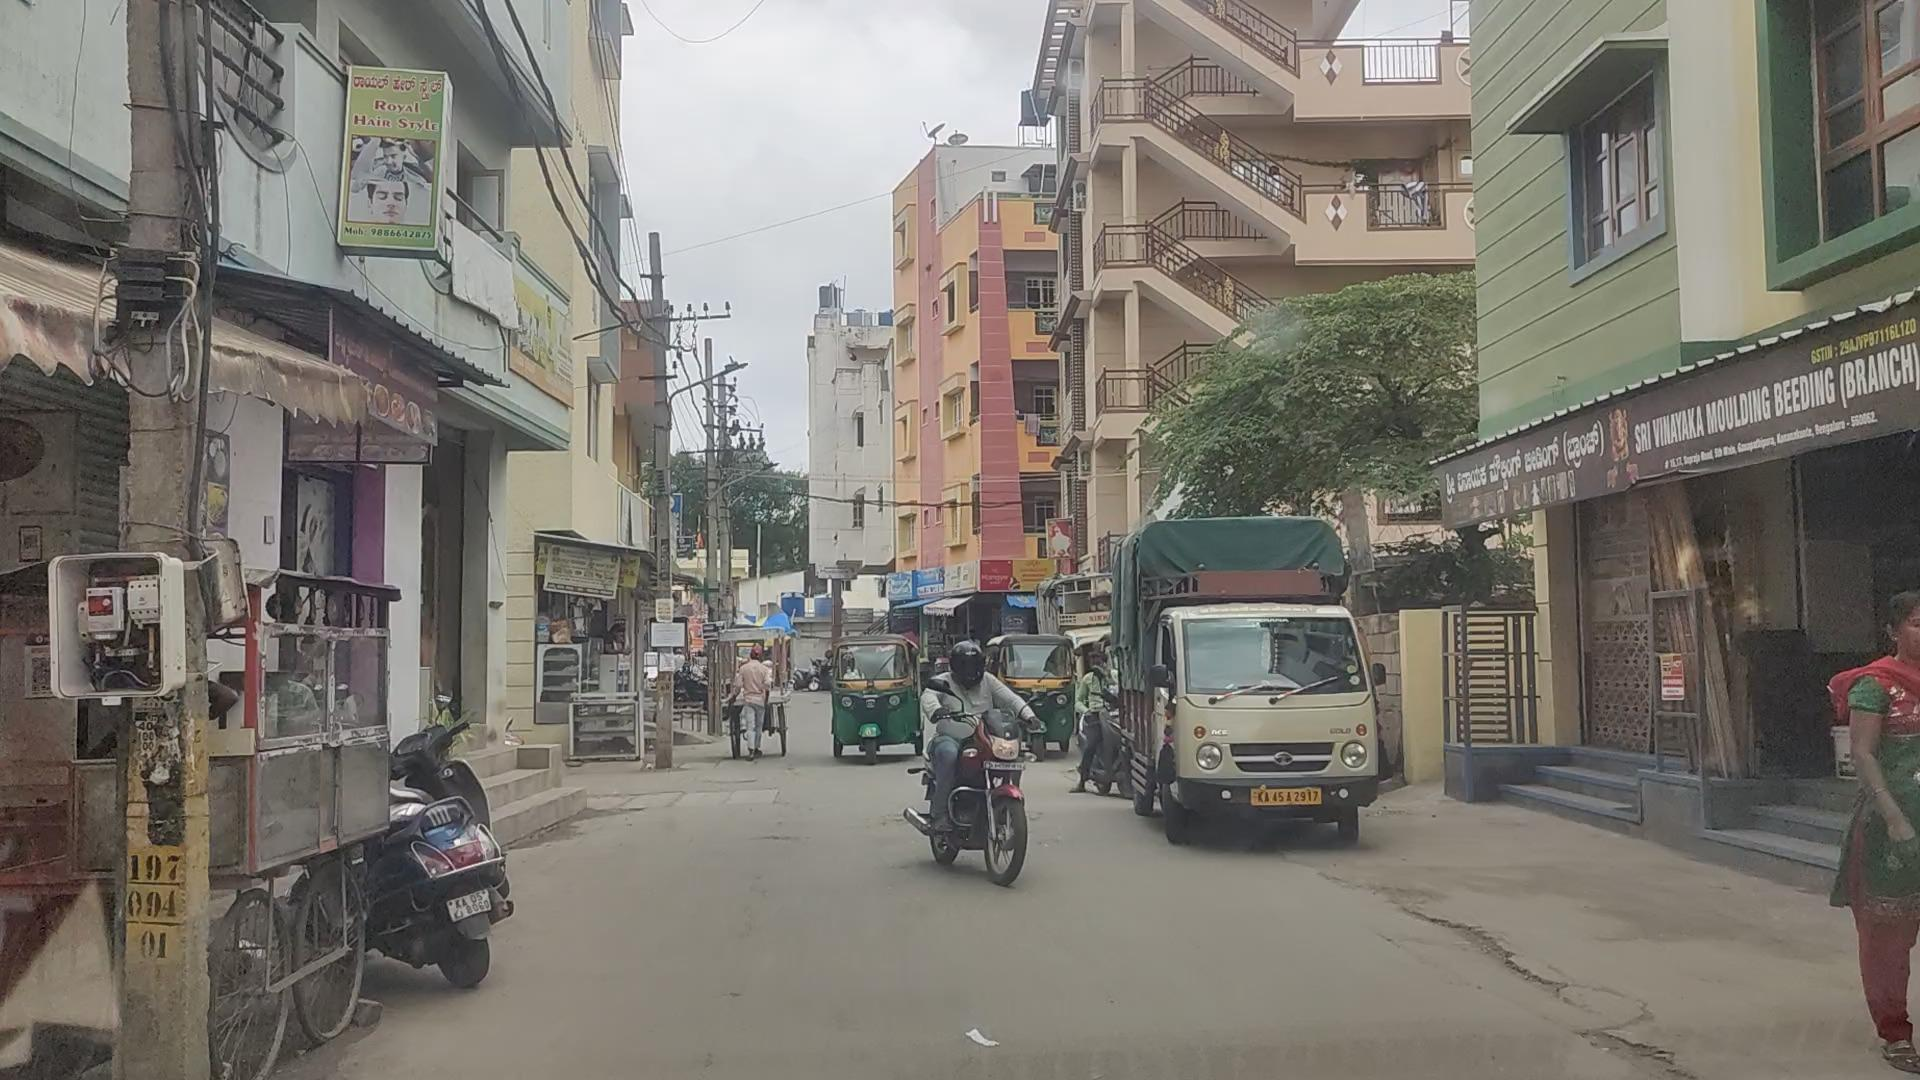HMV: (1113, 521, 1373, 845)
LMV: (919, 642, 1030, 886)
RoadDamages: (1411, 901, 1549, 977), (1604, 997, 1700, 1080)
